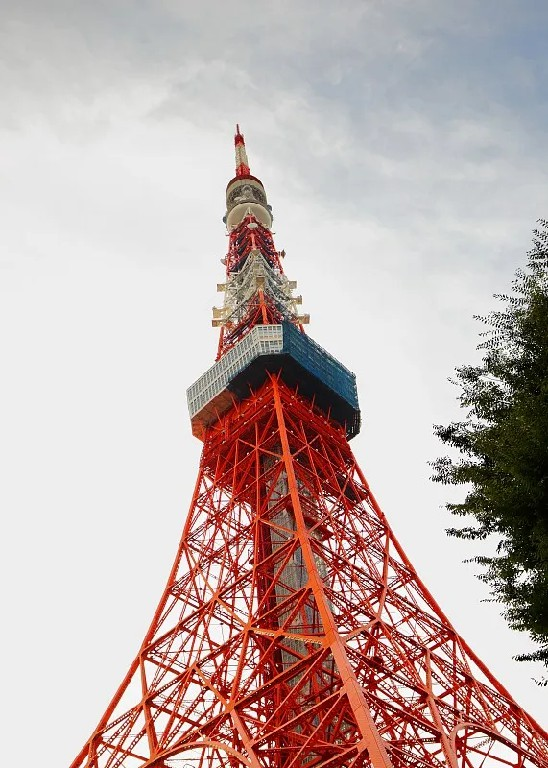Tokyo: (69, 120, 548, 766)
